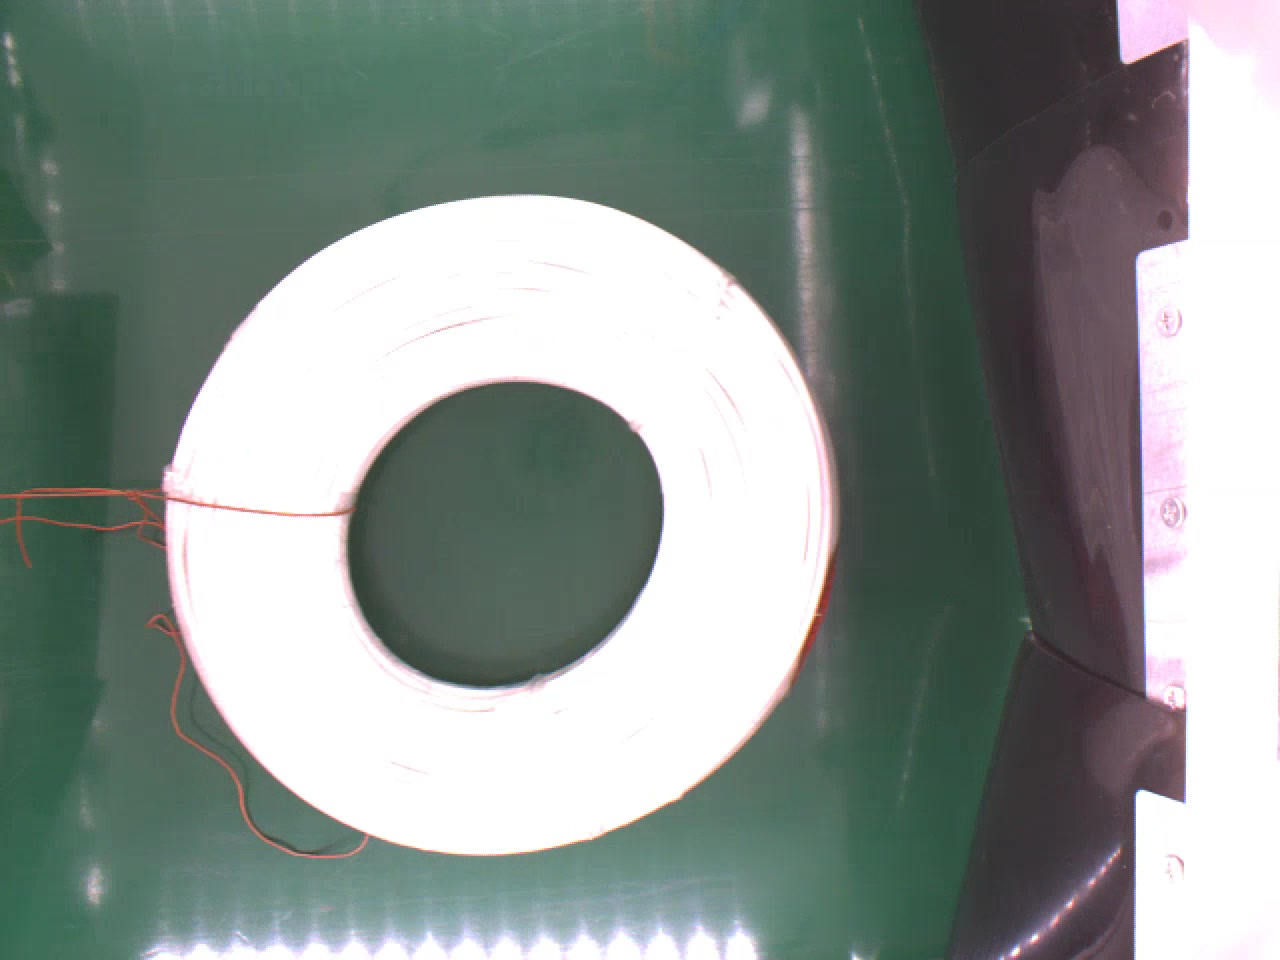white: (157, 186, 835, 857)
